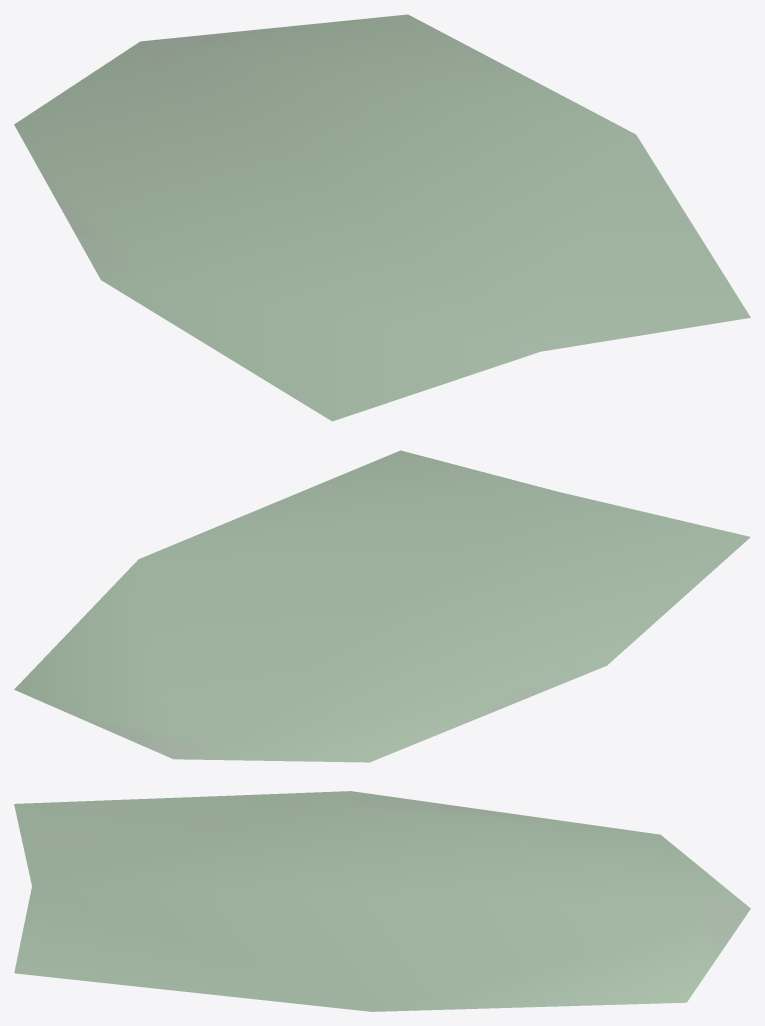
The model's file is TROLLHOLE02_HOLECAP155.fbx.
3 renders of one model, top to bottom at view 1: azimuth 30°, elevation 25°; view 2: azimuth 150°, elevation 25°; view 3: azimuth 270°, elevation 25°, orthographic. The views are drawn at different scales.
Parts seen in each view (by area): view 1: TROLLHOLE02_HOLECAP155; view 2: TROLLHOLE02_HOLECAP155; view 3: TROLLHOLE02_HOLECAP155.
Boxes of the visible parts, x1,y1,x2,y2 form: TROLLHOLE02_HOLECAP155: [14, 14, 750, 421]; TROLLHOLE02_HOLECAP155: [14, 450, 750, 762]; TROLLHOLE02_HOLECAP155: [14, 791, 750, 1011].
Bounding box in the file's own units: 26628 × 602 × 37161.
Materials: 1 (1 with a texture image).
